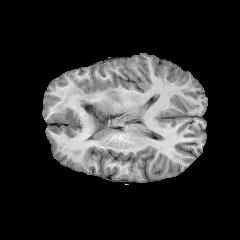glioma: (43, 90, 124, 137)
